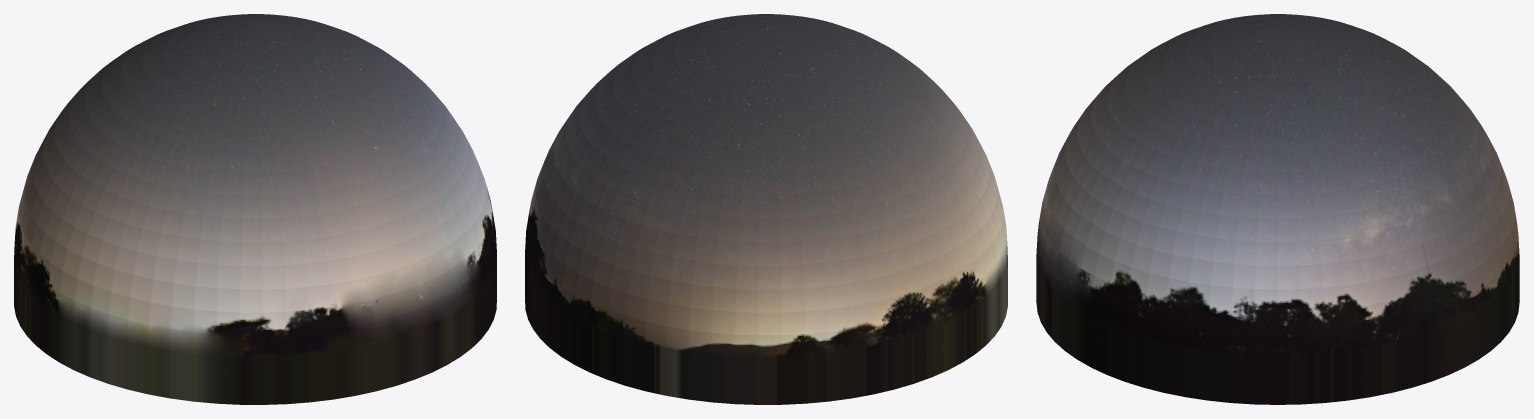
Rendered from skybox.obj.
3 views of the same model, side by side, from view 1: azimuth 30°, elevation 25°; view 2: azimuth 150°, elevation 25°; view 3: azimuth 270°, elevation 25° (orthographic).
Visible parts, largest first — view 1: Sphere; view 2: Sphere; view 3: Sphere.
Boxes of the visible parts, box(x1,y1,x2,y2) form: Sphere: box(14, 14, 496, 404); Sphere: box(525, 14, 1007, 404); Sphere: box(1036, 14, 1519, 404).
Size of the model in its own units: 2 by 1.22 by 2.
Materials: 1 (1 with a texture image).
